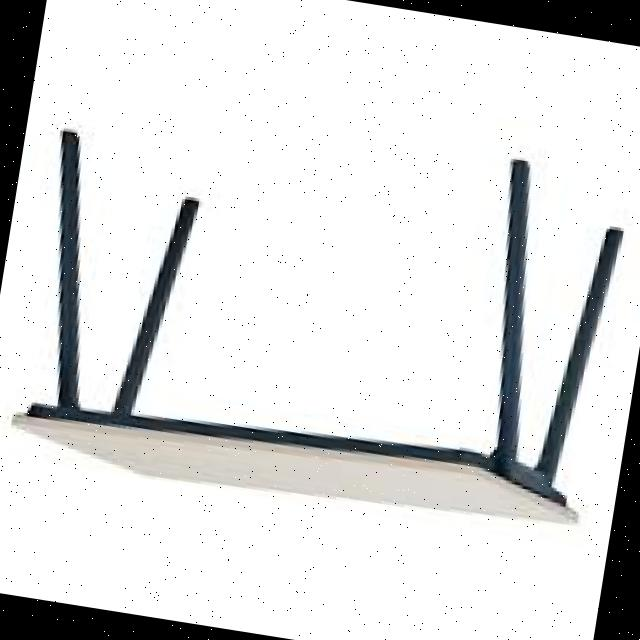Table: (0, 78, 640, 565)
